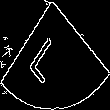L_NE: (35, 26, 75, 84)
